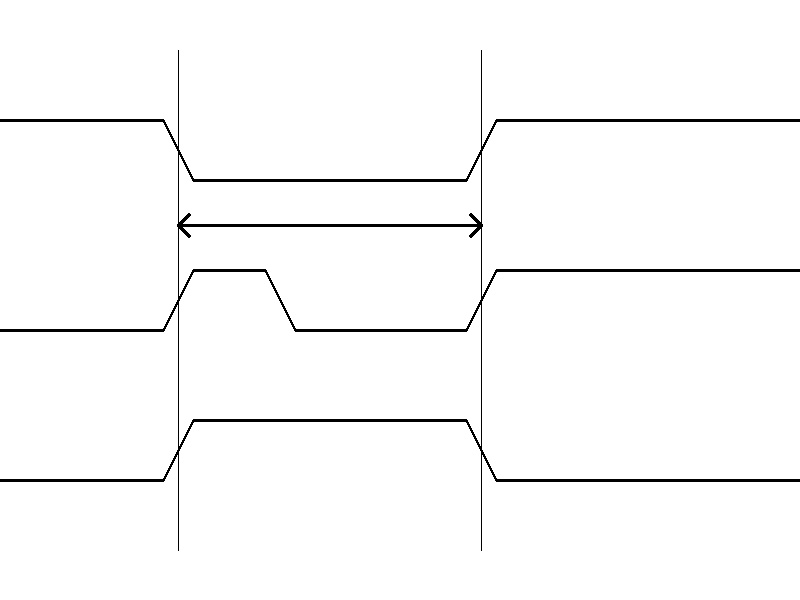double_arrow: (178, 210, 481, 240)
